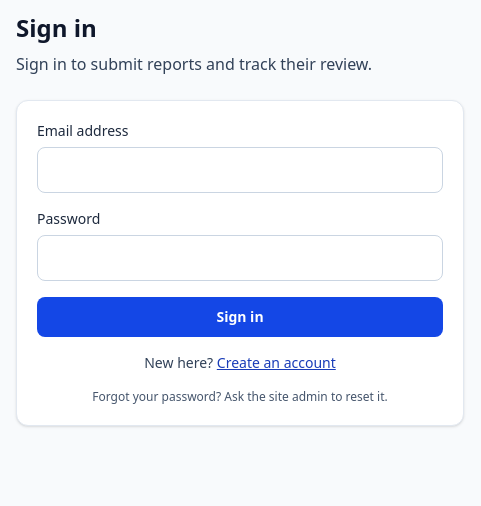
Test: LoginPage › requires both fields
This screenshot has width=481, height=506.
Click the button "Sign in".
click(240, 317)  # box x1=37 y1=297 x2=443 y2=337
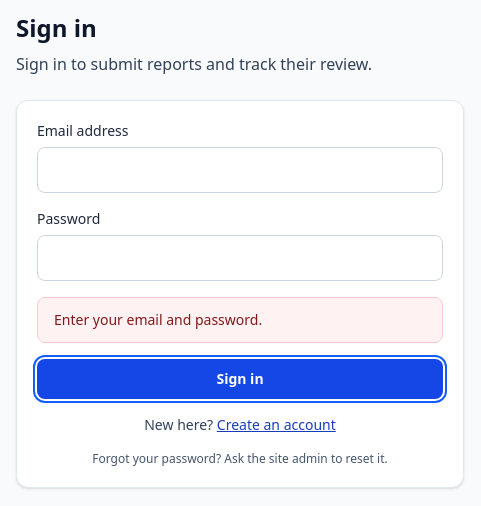
Expected: the text "Enter your email and password." is shown, x1=54 y1=310 x2=262 y2=329
